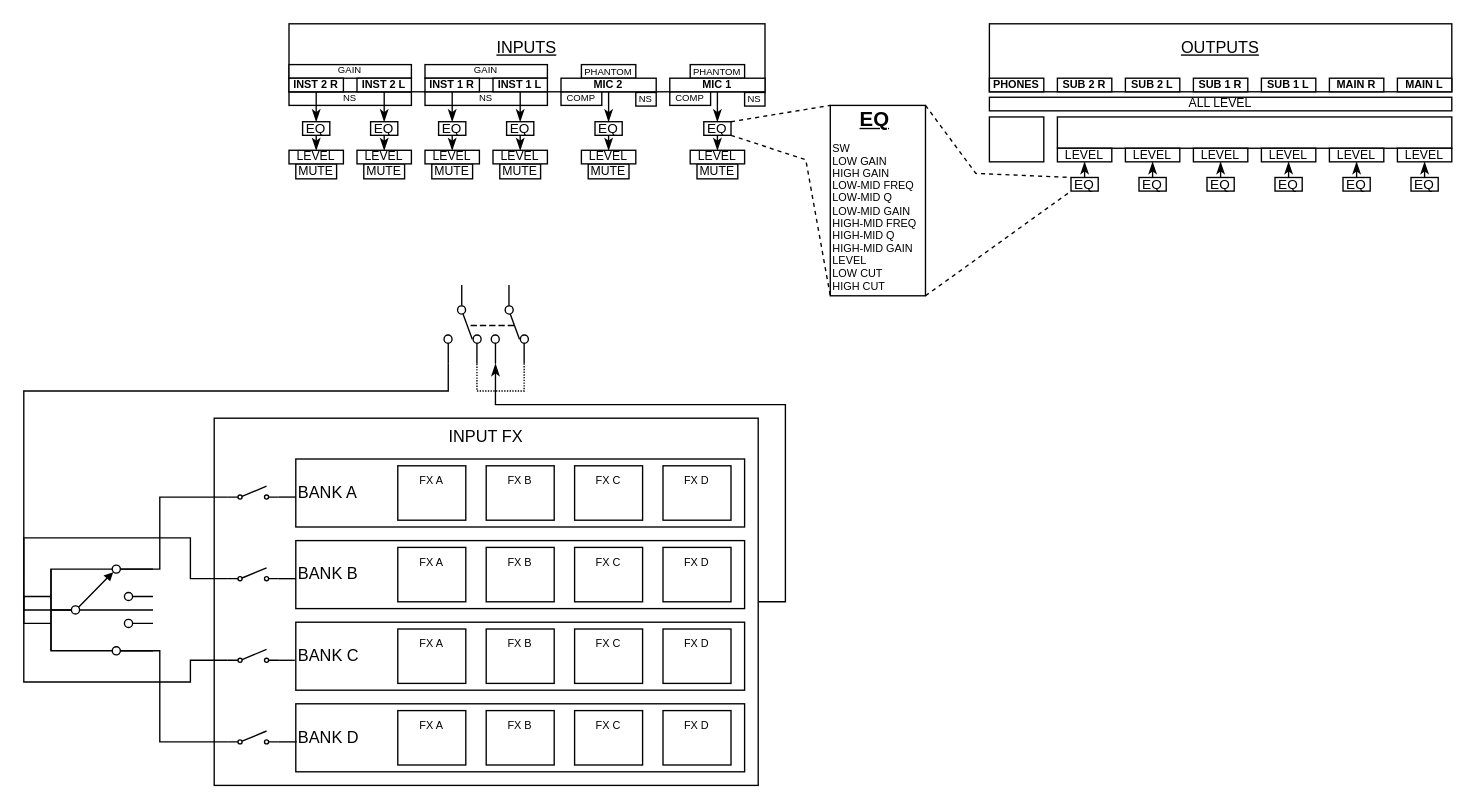
Some shapes in this 1476 by 809 pixel diagram are drawn without their labels. The centre of each missing label's shape, as x and y in pixels:
"MASTER LEVEL" belongs at [1254,132].
"PHONES LEVEL" belongs at [1016,139].
